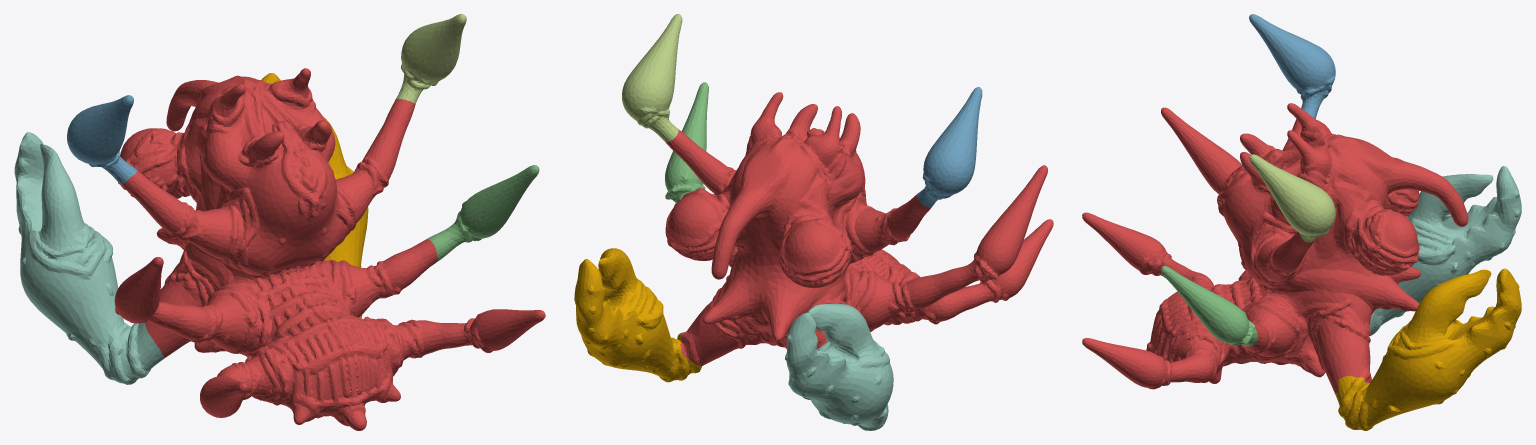
The model's file is fractured_15_6pcs.glb.
The picture shows the model from 3 angles, left to right: view 1: azimuth 30°, elevation 25°; view 2: azimuth 150°, elevation 25°; view 3: azimuth 270°, elevation 25°; orthographic projection. The views are drawn at different scales.
Visible parts, largest first — view 1: piece_1.obj, piece_4.obj, piece_2.obj, piece_3.obj, piece_5.obj, piece_0.obj; view 2: piece_1.obj, piece_4.obj, piece_0.obj, piece_5.obj, piece_2.obj, piece_3.obj; view 3: piece_1.obj, piece_0.obj, piece_4.obj, piece_2.obj, piece_5.obj, piece_3.obj.
Part boxes in pixels (x1,y1,x2,y2): piece_1.obj: [114, 68, 545, 430]; piece_4.obj: [14, 132, 165, 384]; piece_2.obj: [67, 95, 136, 185]; piece_3.obj: [427, 165, 539, 261]; piece_5.obj: [396, 14, 466, 103]; piece_0.obj: [261, 73, 368, 317]; piece_1.obj: [665, 92, 1053, 366]; piece_4.obj: [785, 303, 893, 430]; piece_0.obj: [574, 248, 701, 382]; piece_5.obj: [622, 14, 682, 142]; piece_2.obj: [916, 87, 982, 207]; piece_3.obj: [665, 82, 708, 202]; piece_1.obj: [1082, 103, 1468, 394]; piece_0.obj: [1335, 268, 1521, 430]; piece_4.obj: [1369, 166, 1521, 335]; piece_2.obj: [1249, 14, 1335, 118]; piece_5.obj: [1249, 154, 1335, 242]; piece_3.obj: [1161, 266, 1258, 346].
Bounding box in the file's own units: 0.8751 × 0.7505 × 1.
